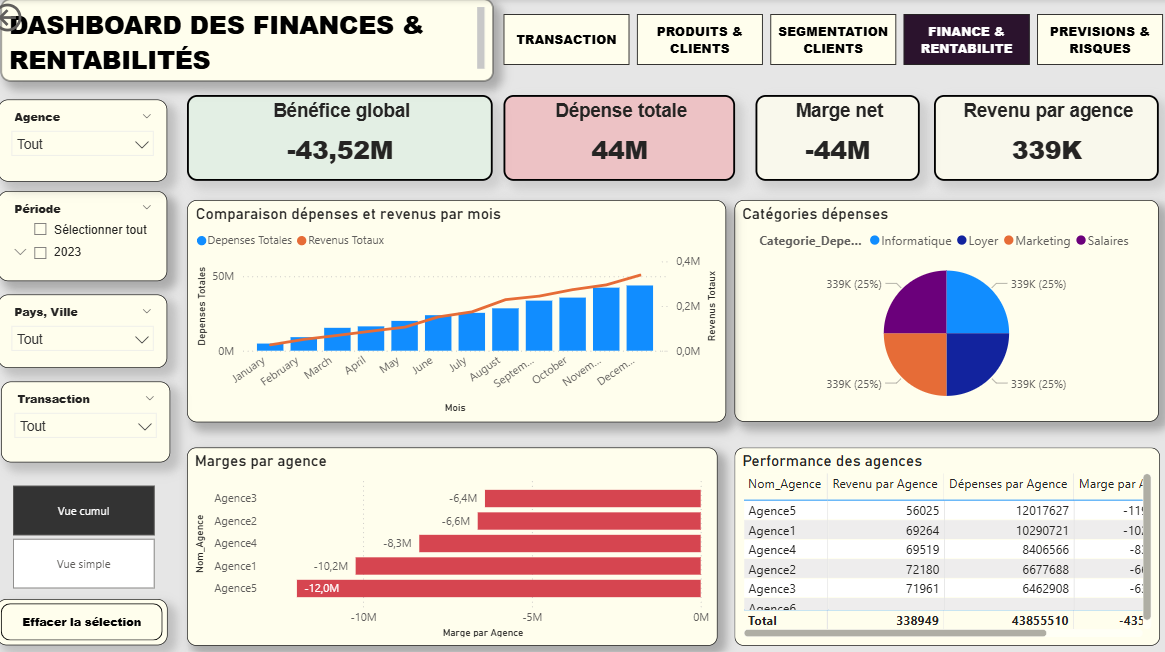

Layout of this report page (visuals, bound fields, positions):
{"tool":"powerbi","page":{"name":"FINANCE & RENTABILITE","canvas":[1280,720],"ordinal":4},"visuals":[{"type":"textbox","box":[12.9,0,531.4,88.6],"z":0},{"type":"pieChart","title":"Catégories dépenses","fields":{"Series":["DIM_TYPE_DEPENSE.Categorie_Depense"],"Y":["FACT_TRANSACTIONS.Revenus Totaux"]},"box":[804.8,217,458.2,239.6],"z":1000},{"type":"lineClusteredColumnComboChart","title":"Comparaison dépenses et revenus par mois","fields":{"Category":["DIM_DATE.Nom_Mois"],"Y":["KPI Switcher (2).Depenses Totales Switch"],"Y2":["KPI Switcher (2).Revenus Totaux Switch"]},"box":[214,217.7,582.1,239.7],"z":2000},{"type":"barChart","title":"Marges par agence","fields":{"Category":["DIM_AGENCE.Nom_Agence"],"Y":["DIM_AGENCE.Marge par Agence"]},"box":[214.3,484.3,572.9,214.3],"z":3000},{"type":"slicer","fields":{"Values":["DIM_DATE.Annee","DIM_DATE.Trimestre","DIM_DATE.Nom_Mois","DIM_DATE.Jour_Numero"]},"box":[9.7,207.3,183,97.2],"z":4000},{"type":"slicer","title":"NOM AGENCE","fields":{"Values":["DIM_AGENCE.Nom_Agence"]},"box":[10,108.6,182.9,88.6],"z":5000},{"type":"slicer","title":"NOM AGENCE","fields":{"Values":["DIM_AGENCE.Pays","DIM_AGENCE.Ville"]},"box":[9.7,319,183,79.3],"z":6000},{"type":"slicer","title":"NOM AGENCE","fields":{"Values":["DIM_TYPE_TRANSACTION.Type_Transaction"]},"box":[13,412.9,183,87.4],"z":7000},{"type":"pageNavigator","box":[555.7,15.7,712.9,55.7],"z":8000},{"type":"actionButton","box":[8.1,647.7,184.6,50.2],"z":9000},{"type":"card","title":"Bénéfice global","fields":{"Values":["FACT_TRANSACTIONS.Bénéfice Global"]},"box":[214.3,102.9,330,92.9],"z":10000},{"type":"card","title":"Marge net","fields":{"Values":["FACT_TRANSACTIONS.Marge Nette"]},"box":[827.1,102.9,177.1,92.9],"z":11000},{"type":"card","title":"Dépense totale","fields":{"Values":["FACT_DEPENSES.Dépenses Totales"]},"box":[555.7,102.9,250,92.9],"z":12000},{"type":"card","title":"Revenu par agence","fields":{"Values":["DIM_AGENCE.Revenu par Agence"]},"box":[1020,104.3,242.9,92.9],"z":13000},{"type":"tableEx","title":"Performance des agences","fields":{"Values":["DIM_AGENCE.Nom_Agence","DIM_AGENCE.Revenu par Agence","DIM_AGENCE.Dépenses par Agence","DIM_AGENCE.Marge par Agence","DIM_AGENCE.Rang Agence"]},"box":[805,484,459,214],"z":14000},{"type":"actionButton","box":[0,0,100,40],"z":15000},{"type":"slicer","fields":{"Values":["KPI Switch.Type Calcul"]},"box":[0,518.2,202.4,124.7],"z":16000}]}

Visuals, with their boxes in screenshot pixels (x1, y1, x2, y2), scaled from the page's 1280x720 canvas onto the 1165x652 screenshot:
textbox: bbox=(12, 0, 495, 80)
"Catégories dépenses" pieChart: bbox=(732, 197, 1150, 413)
"Comparaison dépenses et revenus par mois" lineClusteredColumnComboChart: bbox=(195, 197, 725, 414)
"Marges par agence" barChart: bbox=(195, 439, 716, 633)
slicer - DIM_DATE.Annee x DIM_DATE.Trimestre: bbox=(9, 188, 175, 276)
"NOM AGENCE" slicer: bbox=(9, 98, 176, 179)
"NOM AGENCE" slicer: bbox=(9, 289, 175, 361)
"NOM AGENCE" slicer: bbox=(12, 374, 178, 453)
pageNavigator: bbox=(506, 14, 1155, 65)
actionButton: bbox=(7, 587, 175, 632)
"Bénéfice global" card: bbox=(195, 93, 495, 177)
"Marge net" card: bbox=(753, 93, 914, 177)
"Dépense totale" card: bbox=(506, 93, 733, 177)
"Revenu par agence" card: bbox=(928, 94, 1149, 179)
"Performance des agences" tableEx: bbox=(733, 438, 1150, 632)
actionButton: bbox=(0, 0, 91, 36)
slicer - KPI Switch.Type Calcul: bbox=(0, 469, 184, 582)
